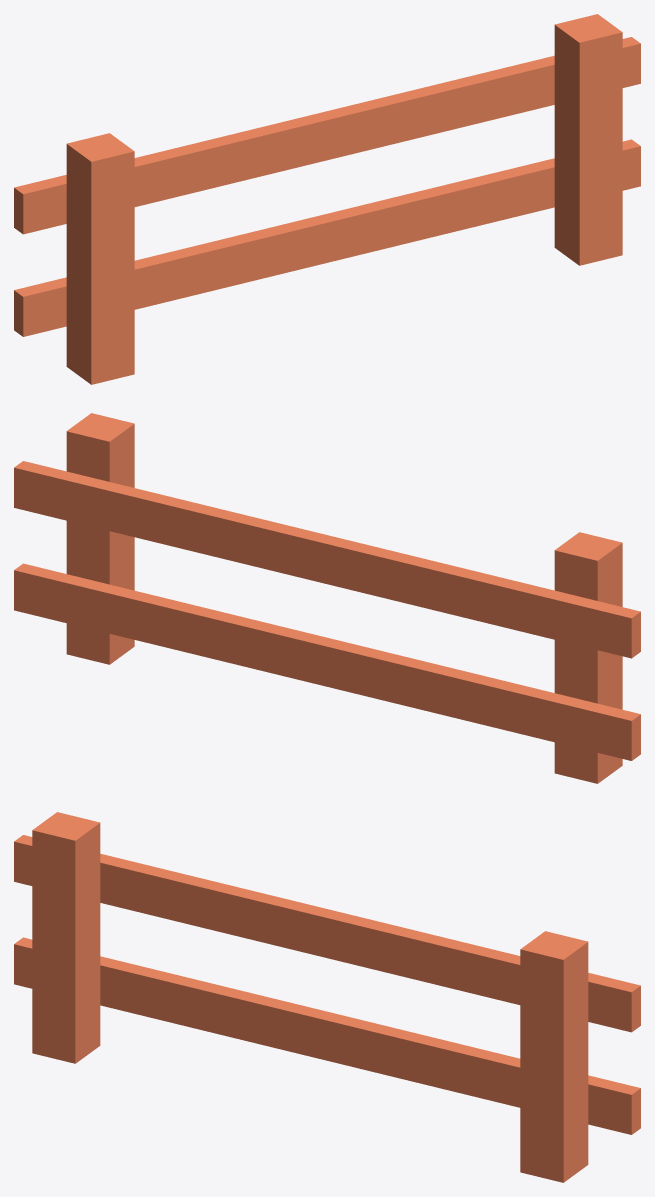
Rendered from d_kenney_palissade.glb.
The picture shows the model from 3 angles, top to bottom: view 1: azimuth 30°, elevation 25°; view 2: azimuth 150°, elevation 25°; view 3: azimuth 330°, elevation 25°; orthographic projection.
Parts seen in each view (by area): view 1: d_kenney_palissade; view 2: d_kenney_palissade; view 3: d_kenney_palissade.
Part boxes in pixels (x1,y1,x2,y2): d_kenney_palissade: (14, 14, 640, 384); d_kenney_palissade: (14, 413, 640, 783); d_kenney_palissade: (14, 812, 640, 1182).
Bounding box in the file's own units: 1 × 0.345 × 0.096.
Materials: 1 (1 with a texture image).
